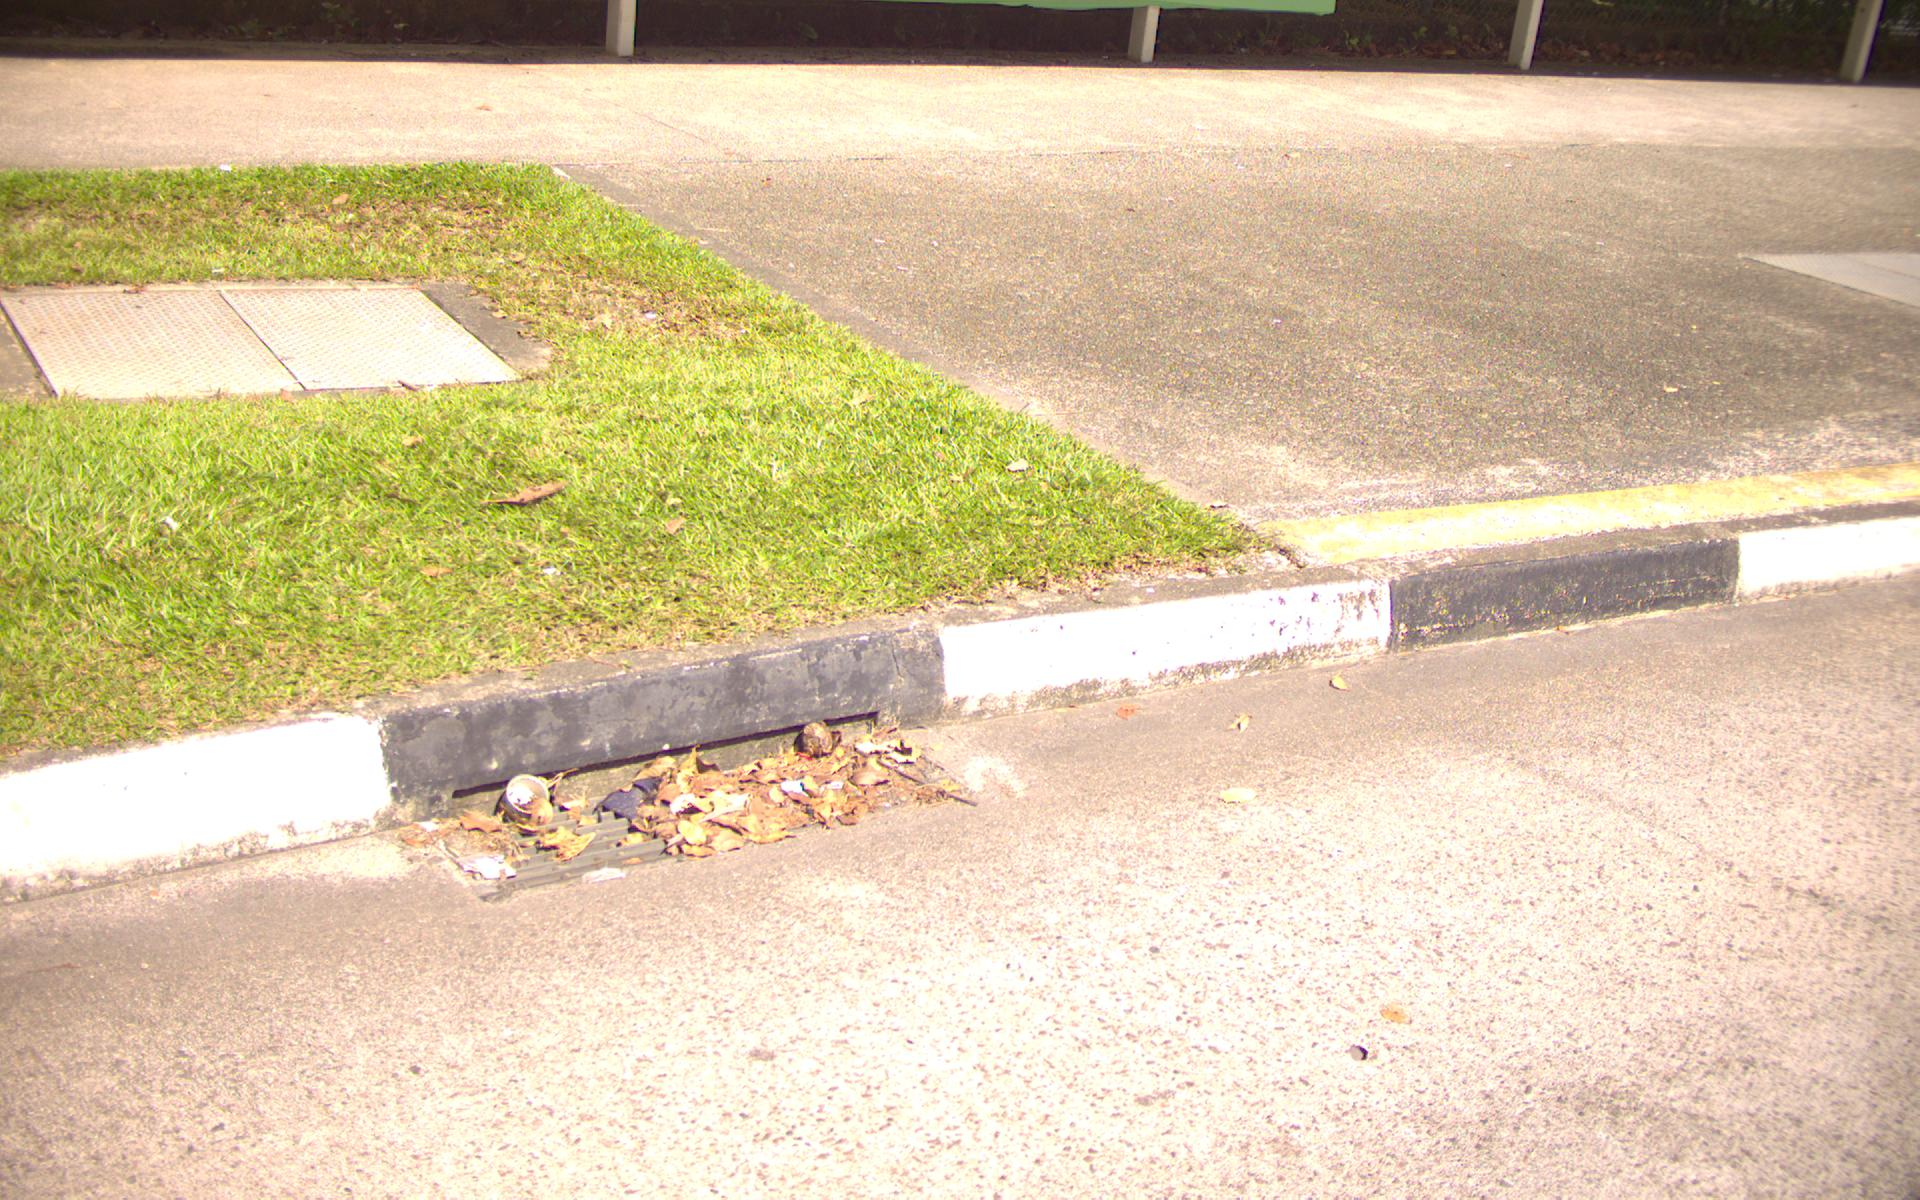curb_dic_low: (397, 724, 1013, 899)
pathway_low: (1147, 158, 1920, 1164), (4, 59, 1920, 145)
road_turf_low: (15, 166, 643, 655)
